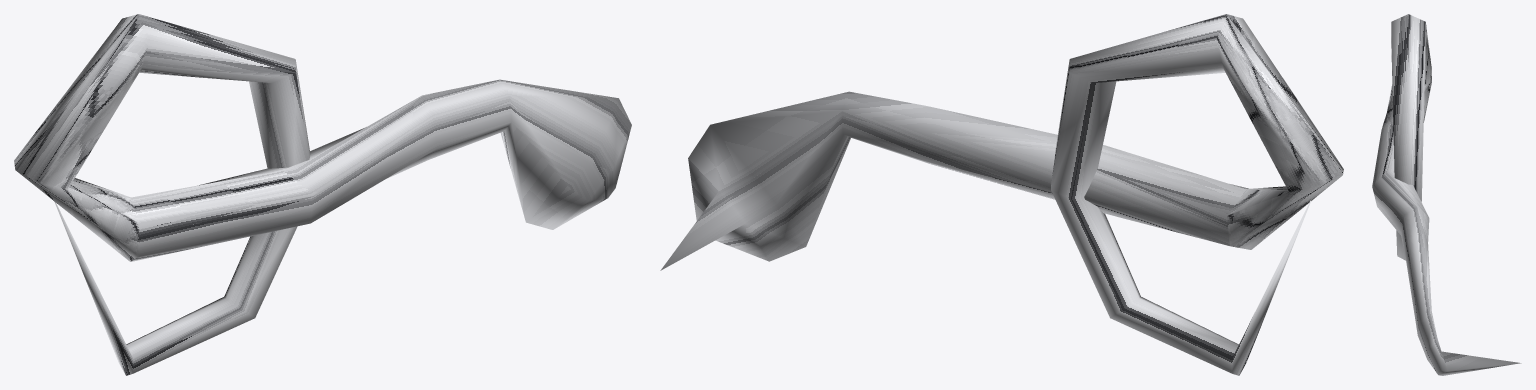
File: snake_000086.obj
3 views of the same model, side by side, from view 1: azimuth 30°, elevation 25°; view 2: azimuth 150°, elevation 25°; view 3: azimuth 270°, elevation 25° (orthographic). The views are drawn at different scales.
Parts seen in each view (by area): view 1: Cylinder; view 2: Cylinder; view 3: Cylinder.
Boxes of the visible parts, bbox=[...] form: Cylinder: bbox=[14, 14, 631, 375]; Cylinder: bbox=[660, 14, 1343, 375]; Cylinder: bbox=[1372, 14, 1521, 375].
Bounding box in the file's own units: 4.52 × 2.44 × 1.43.
